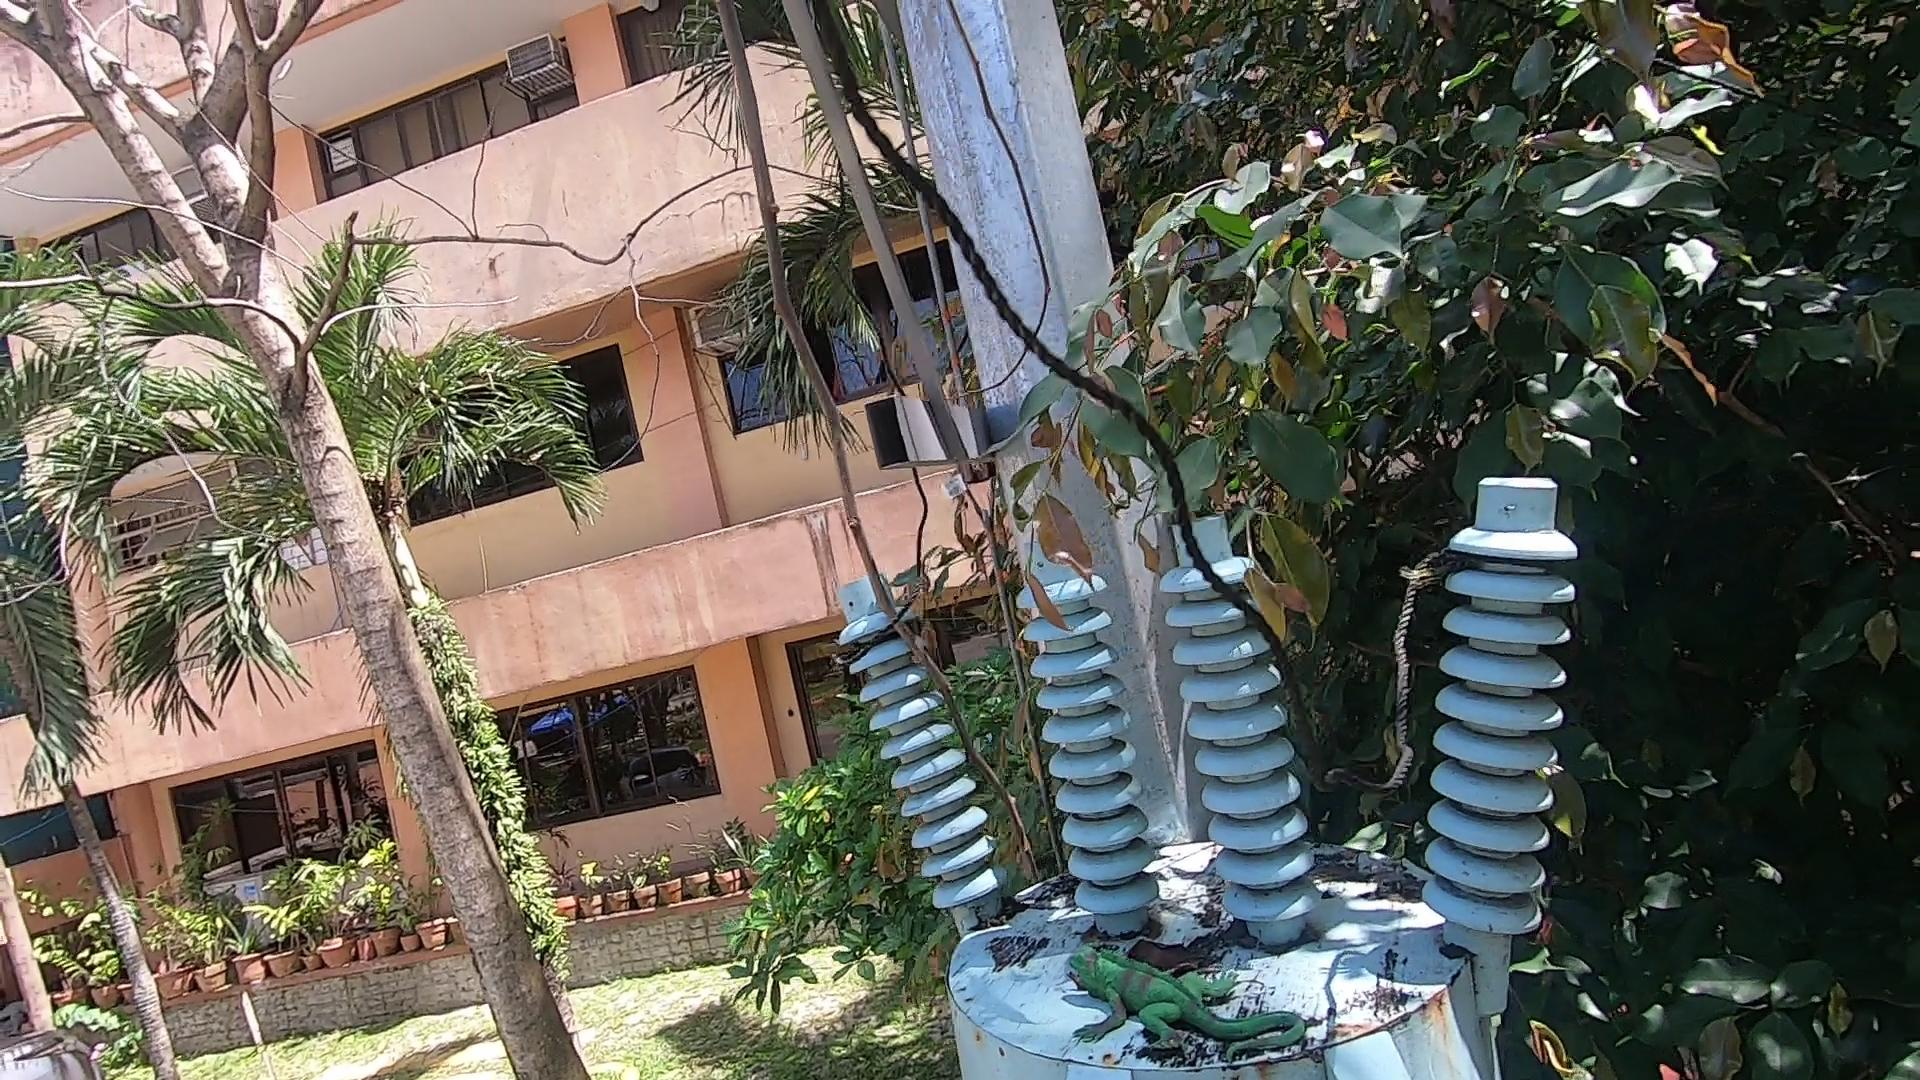branch with leaves: (967, 398, 1356, 662)
leaf: (1323, 847, 1425, 905), (1126, 934, 1261, 977), (976, 899, 1044, 942)
tree branch: (673, 5, 1076, 885)
